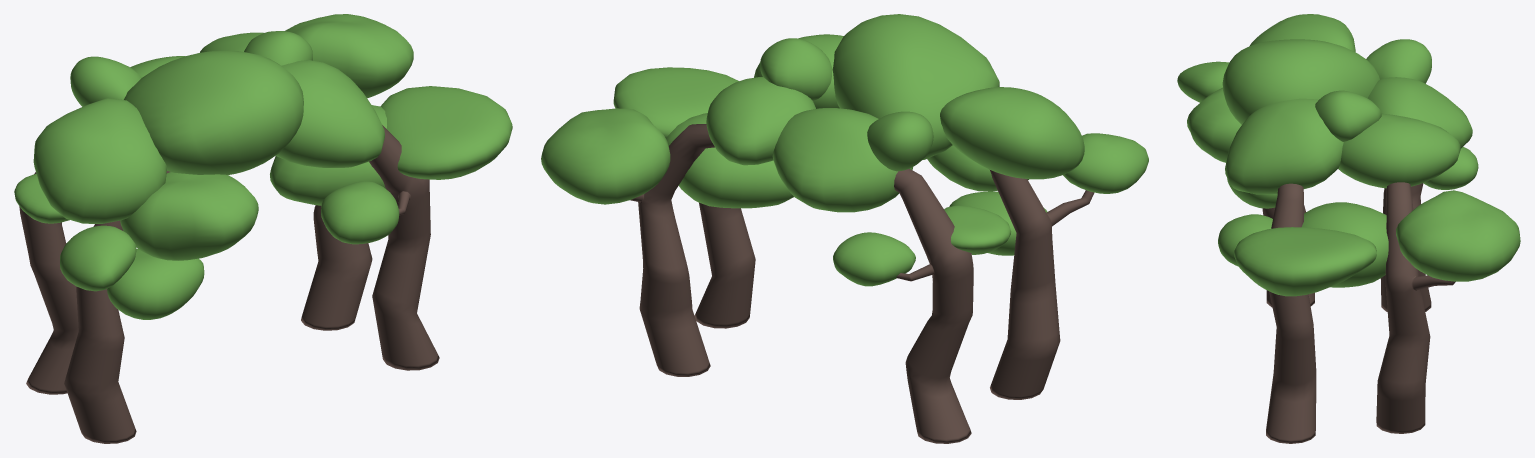
The model's file is Mesh_TreeDoor.fbx.
The picture shows the model from 3 angles, left to right: view 1: azimuth 30°, elevation 25°; view 2: azimuth 150°, elevation 25°; view 3: azimuth 270°, elevation 25°; orthographic projection. The views are drawn at different scales.
Visible parts, largest first — view 1: TreeDoor; view 2: TreeDoor; view 3: TreeDoor.
Boxes of the visible parts, x1,y1,x2,y2 form: TreeDoor: (14, 14, 512, 443); TreeDoor: (541, 14, 1148, 443); TreeDoor: (1177, 14, 1520, 443).
Size of the model in its own units: 268 by 182 by 184.
